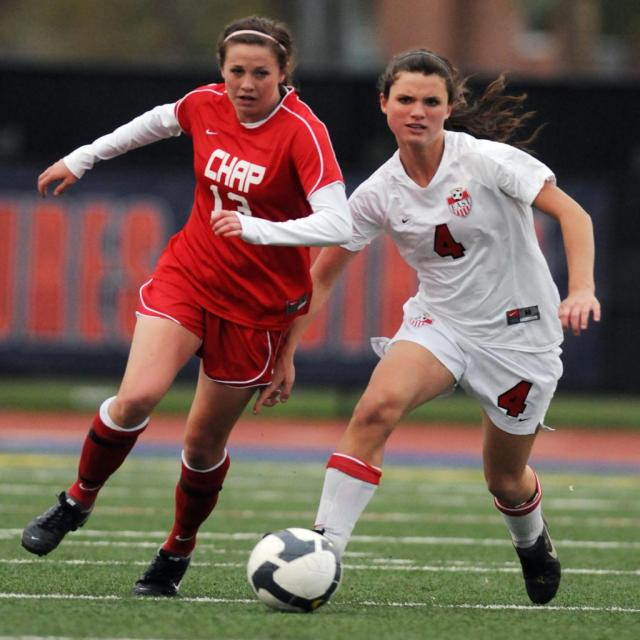Face: (219, 35, 288, 112), (390, 69, 454, 145)
